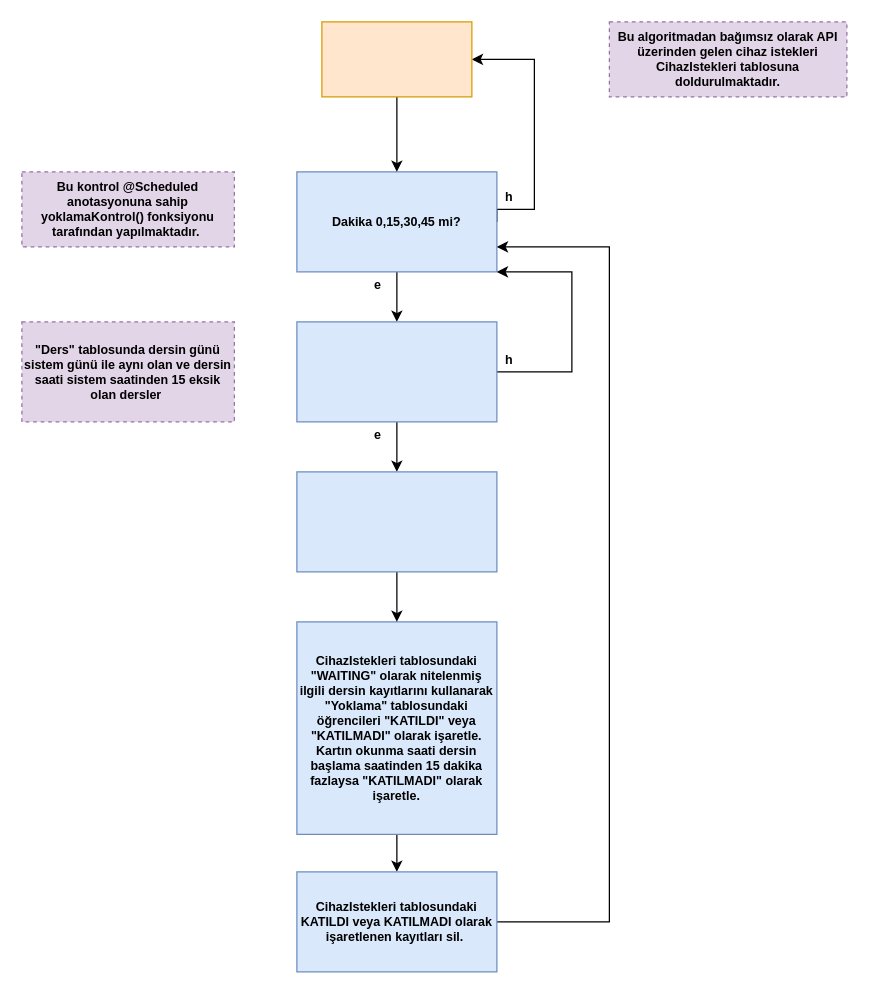
This 869x994 diagram has some shape labels left out. Here are the shapes that lost their labels. From the top down, the box of each, then its label:
(321, 21, 472, 97): START
(296, 321, 497, 422): İlk 15 dakikası geçen ders var mı?
(296, 471, 497, 572): İlgili dersin öğrencilerini Yoklama tablosuna ekle.
